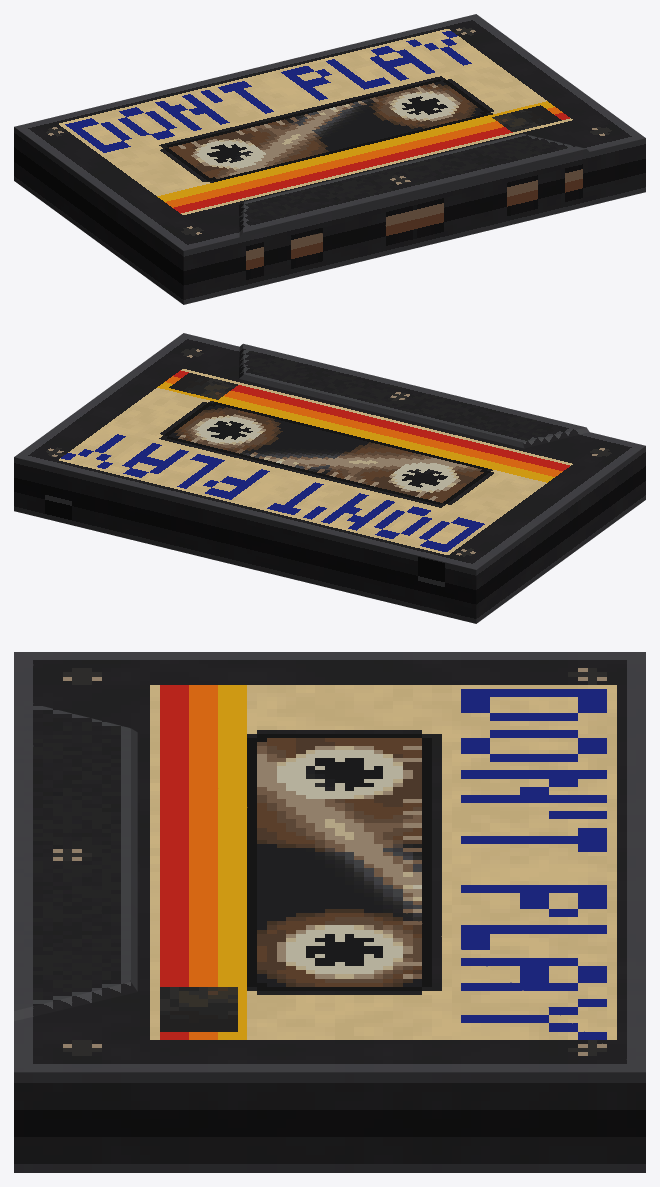
File: SM_Motel_CassetteTape.glb
3 views of the same model, one above another, from view 1: azimuth 30°, elevation 25°; view 2: azimuth 150°, elevation 25°; view 3: azimuth 270°, elevation 25° (orthographic). The views are drawn at different scales.
Visible parts, largest first — view 1: SM_Motel_CassetteTape; view 2: SM_Motel_CassetteTape; view 3: SM_Motel_CassetteTape.
Part boxes in pixels (x1,y1,x2,y2): SM_Motel_CassetteTape: [14, 14, 645, 304]; SM_Motel_CassetteTape: [14, 333, 645, 623]; SM_Motel_CassetteTape: [14, 652, 645, 1172].
Size of what is drawn, in the model's own units: 0.1004 by 0.012 by 0.0638.
1 material, 1 textured.
